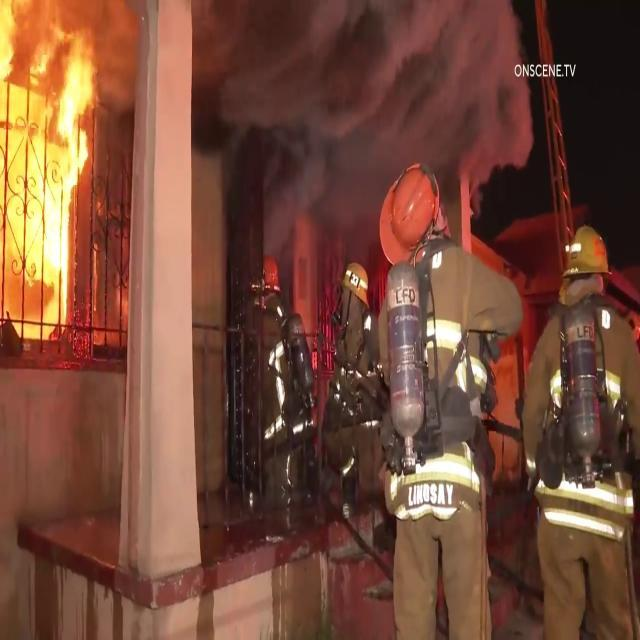Smoke: (153, 0, 552, 172)
